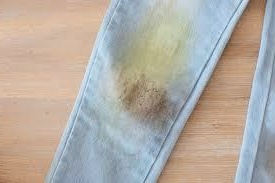earth: (121, 15, 182, 113)
